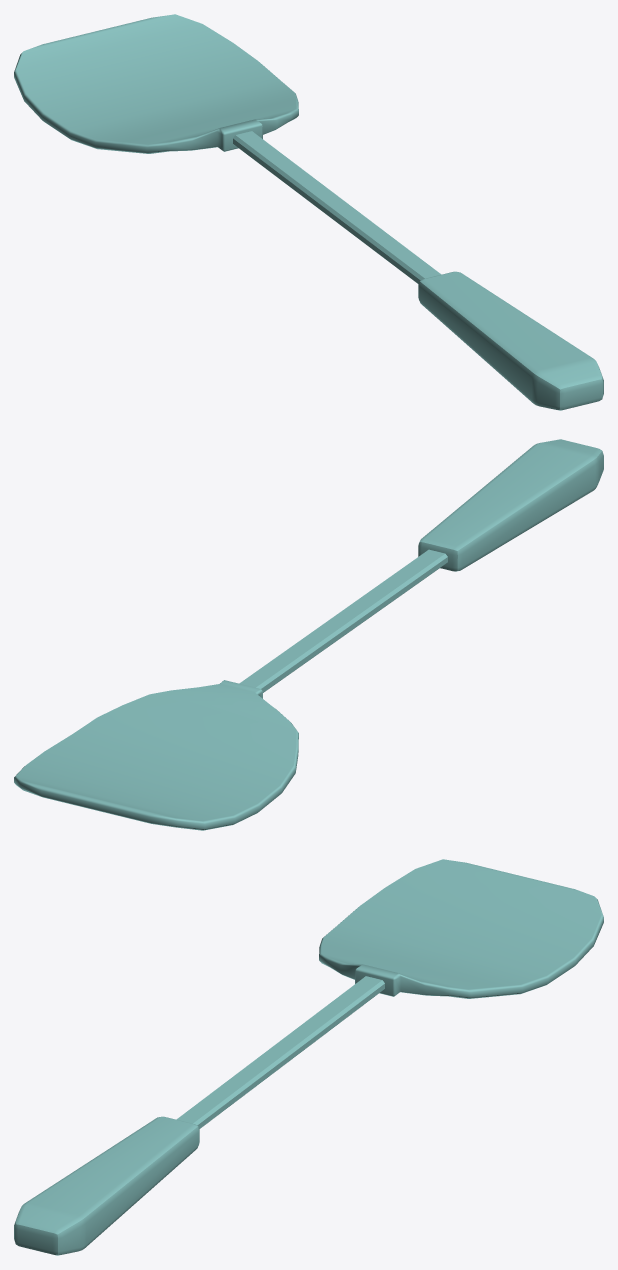
The model's file is spatula.fbx.
The picture shows the model from 3 angles, top to bottom: view 1: azimuth 30°, elevation 25°; view 2: azimuth 150°, elevation 25°; view 3: azimuth 330°, elevation 25°; orthographic projection.
Visible parts, largest first — view 1: polySurface6221; view 2: polySurface6221; view 3: polySurface6221.
Part boxes in pixels (x1=…): polySurface6221: x1=14, y1=14, x2=603, y2=410; polySurface6221: x1=14, y1=439, x2=603, y2=830; polySurface6221: x1=14, y1=859, x2=603, y2=1255.
Bounding box in the file's own units: 0.1688 × 0.027 × 0.6554.
